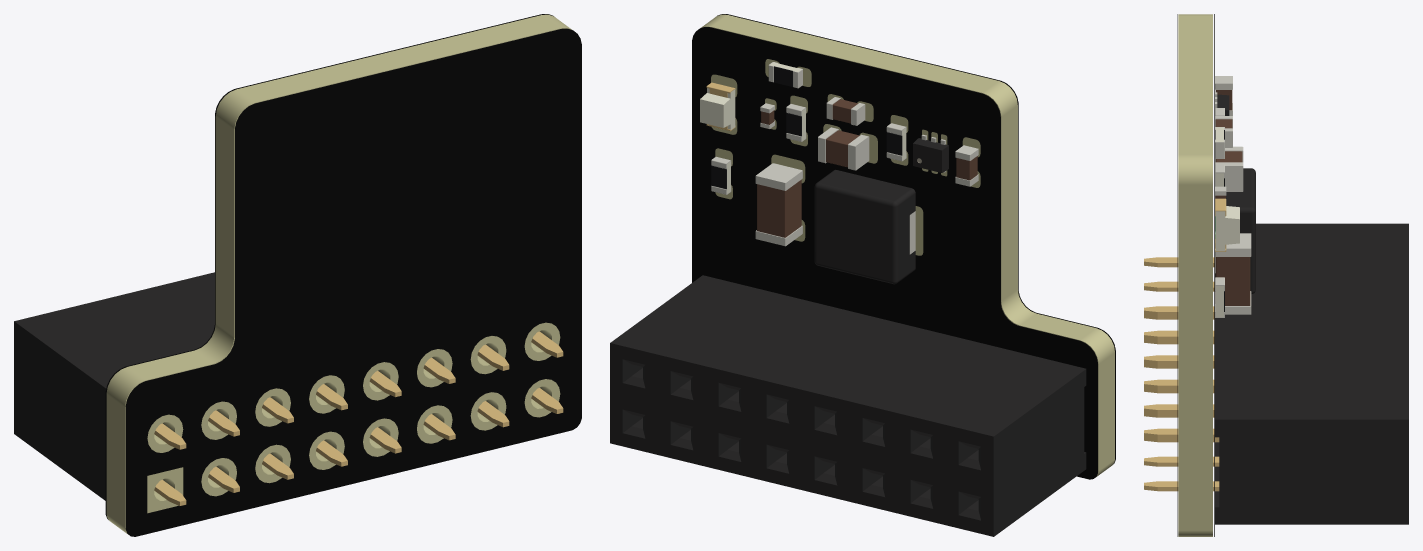
Rendered from lure.glb.
The picture shows the model from 3 angles, left to right: view 1: azimuth 30°, elevation 25°; view 2: azimuth 150°, elevation 25°; view 3: azimuth 270°, elevation 25°; orthographic projection. The views are drawn at different scales.
Parts seen in each view (by area): view 1: Solid1 (×4); view 2: Solid1 (×15); view 3: Solid1 (×11).
Part boxes in pixels (x1=…): Solid1 (×4): x1=14, y1=14, x2=581, y2=536; Solid1 (×15): x1=610, y1=14, x2=1115, y2=536; Solid1 (×11): x1=1144, y1=14, x2=1408, y2=536.
Bounding box in the file's own units: 0.0215 × 0.0182 × 0.0116.
